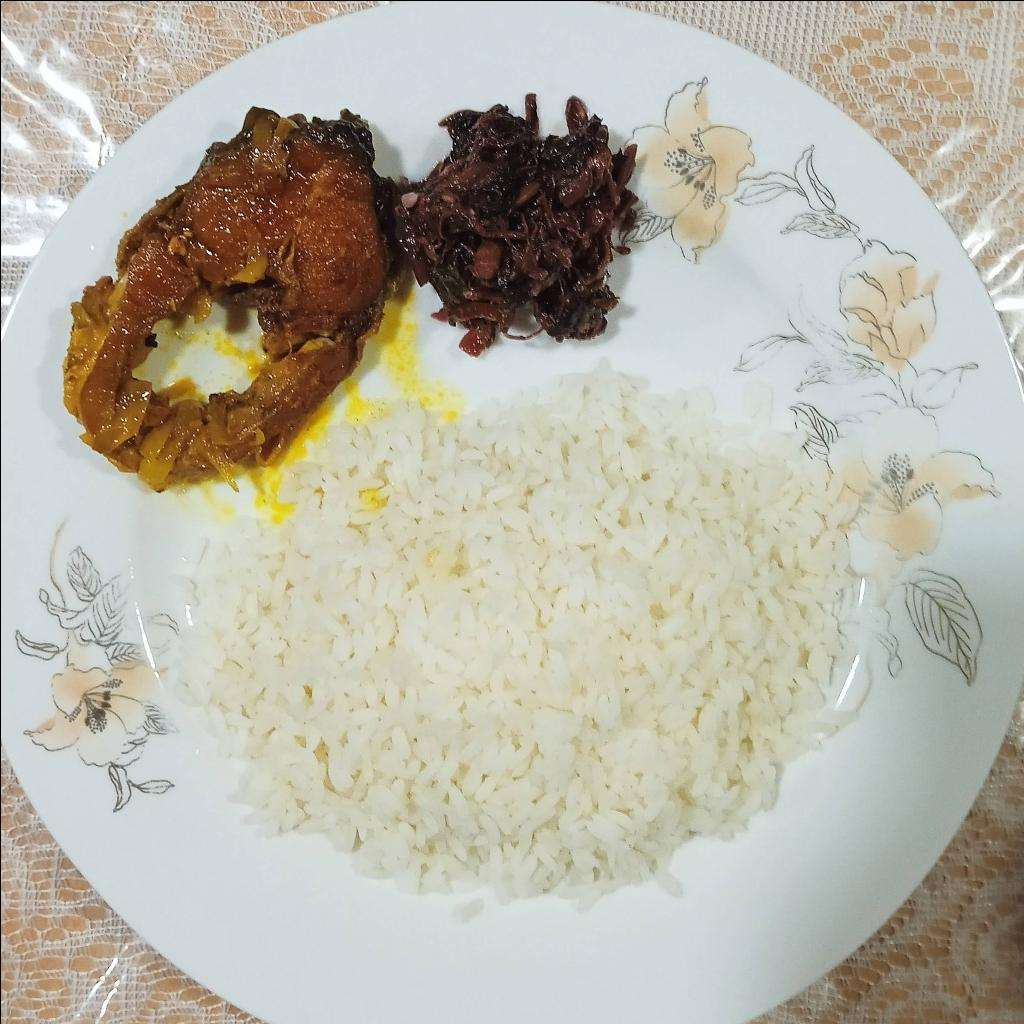fish: (63, 105, 397, 483)
rice: (177, 362, 852, 904)
shak: (419, 102, 639, 348)
